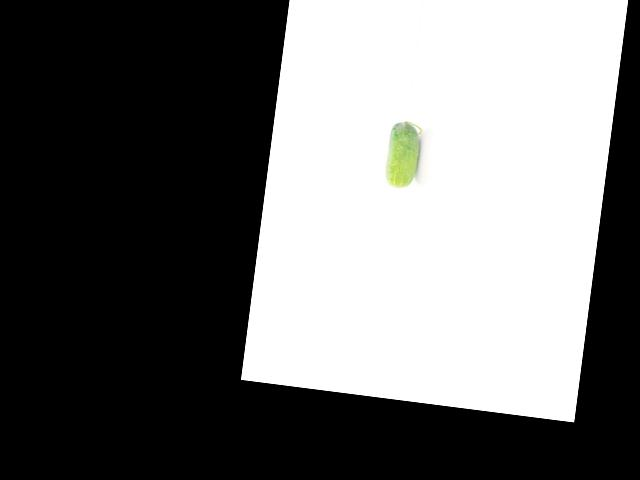cucumber: (383, 120, 423, 191)
